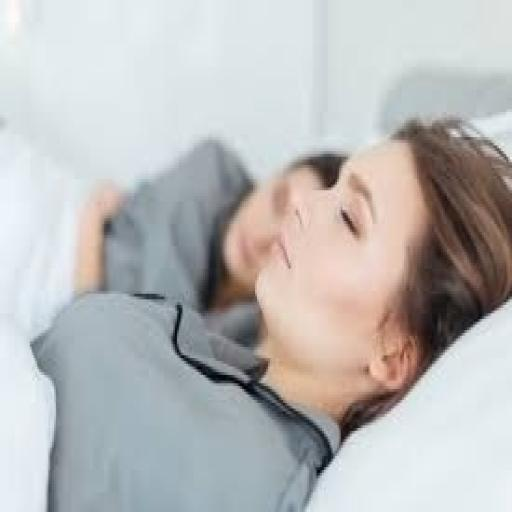sleeping: (26, 112, 510, 509)
